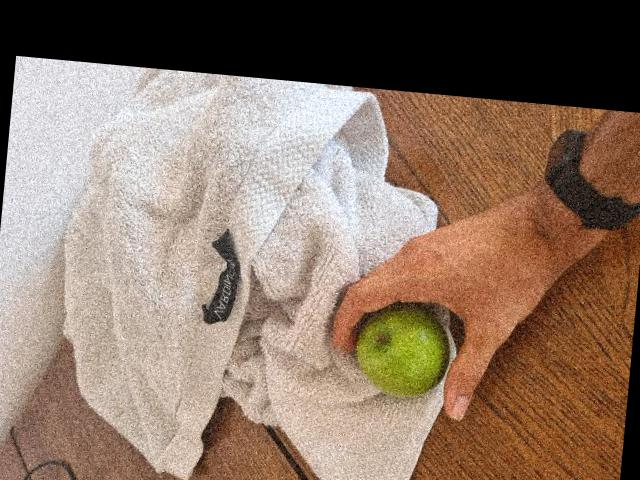apple: (361, 289, 457, 408)
